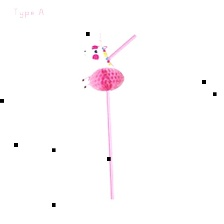drinking_straw: (71, 24, 142, 204)
